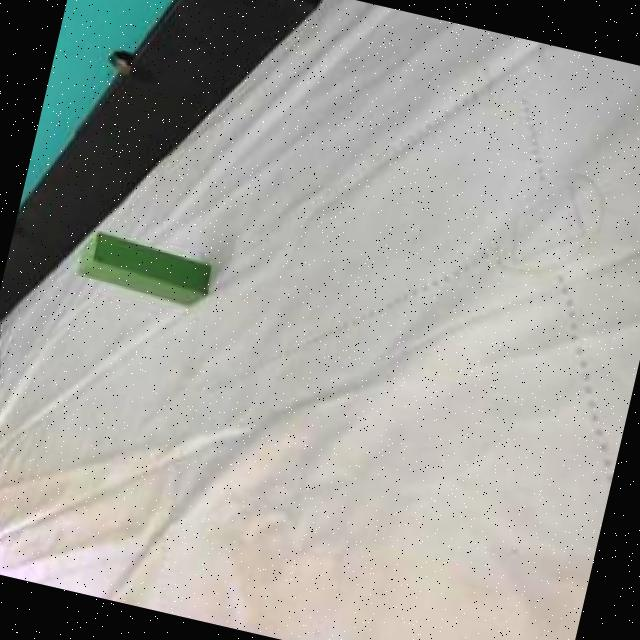greenbox: (67, 227, 216, 308)
